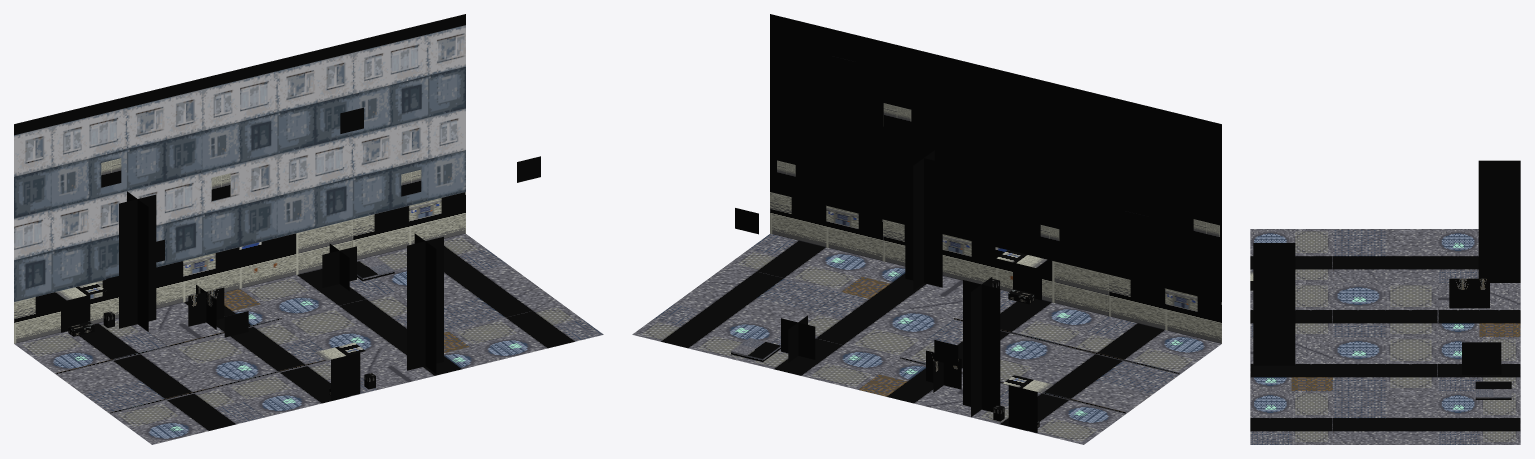
File: street.gltf
3 renders of one model, left to right at view 1: azimuth 30°, elevation 25°; view 2: azimuth 150°, elevation 25°; view 3: azimuth 270°, elevation 25°, orthographic. The views are drawn at different scales.
Parts seen in each view (by area): view 1: facade, ground, props; view 2: facade, ground, props; view 3: ground, props.
Part boxes in pixels (x1,y1,x2,y2): facade: [14, 14, 540, 400]; ground: [14, 233, 603, 444]; props: [68, 191, 443, 395]; facade: [735, 14, 1221, 432]; ground: [632, 233, 1221, 444]; props: [781, 150, 1039, 427]; ground: [1250, 229, 1520, 444]; props: [1253, 160, 1520, 374].
Bounding box in the file's own units: 34 × 15.8 × 18.
Materials: 4 (4 with a texture image).
